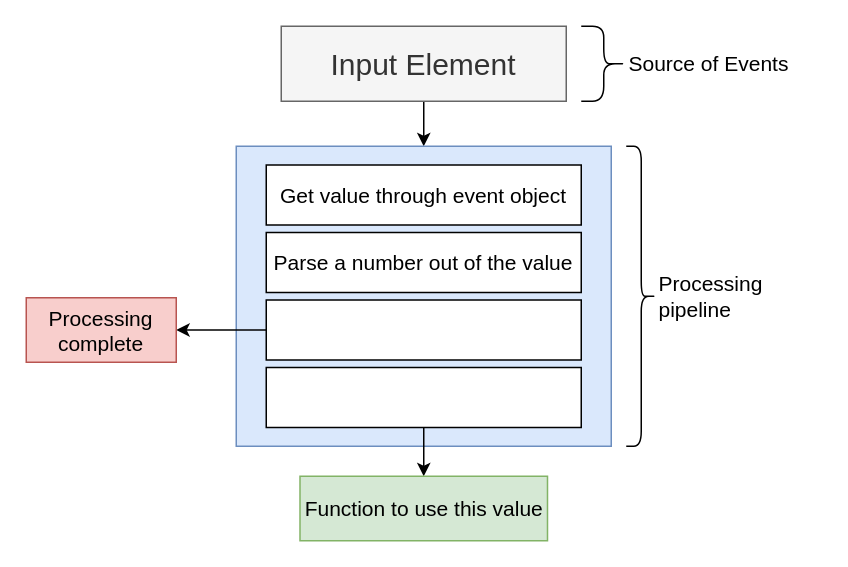
The diagram is 848 pixels wide and 567 high, and some of its shapes have lost their labels. The centre of each missing label's shape, as x and y in pixels:
Hand off the number to something to 'consume' it: (423,397)
Inspect the number, throw error it is not a number: (423,329)
